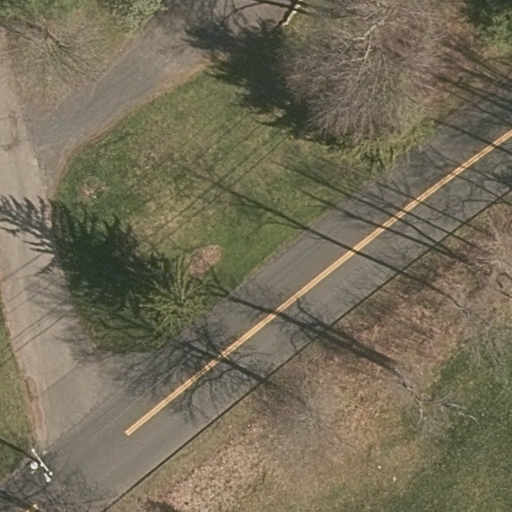DT: (19, 445, 58, 490)
